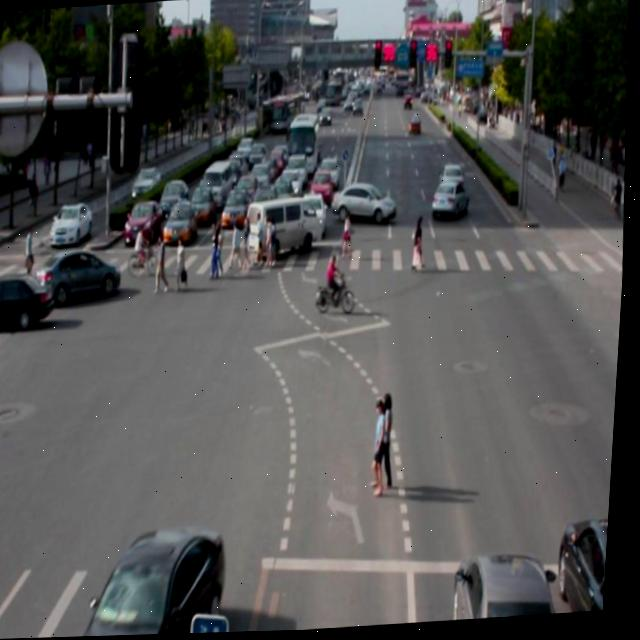car: (72, 519, 236, 638), (455, 549, 571, 623), (562, 513, 615, 616)
